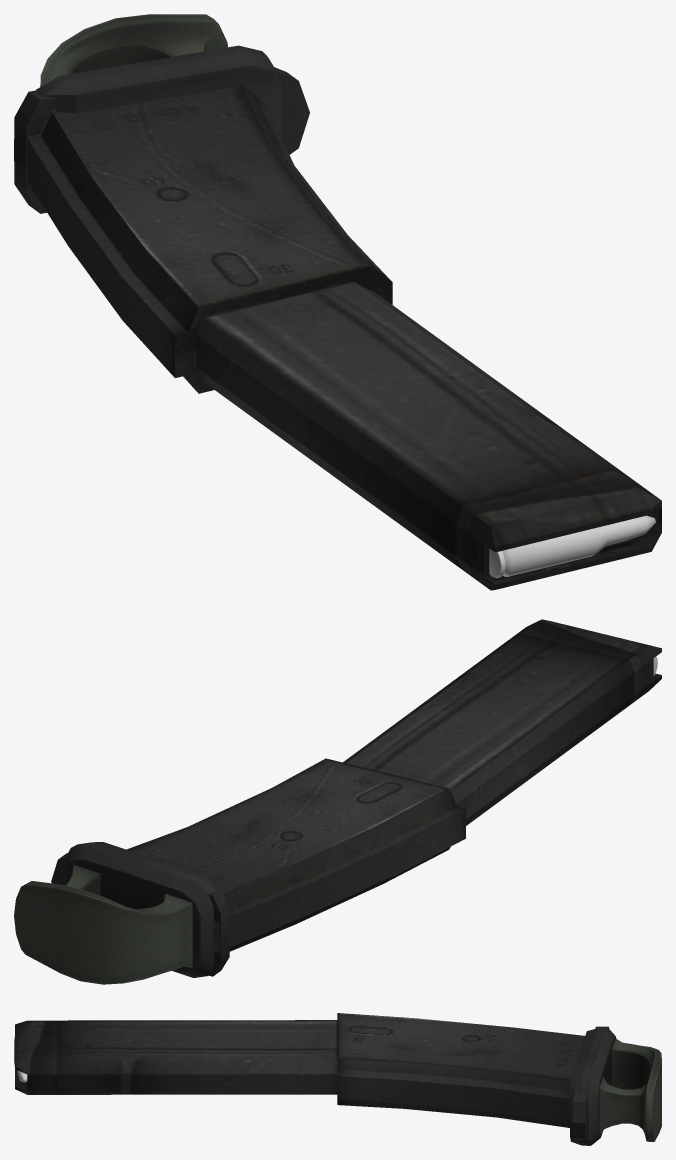
File: t6_attach_fastmag_mp7_view_LOD0.obj
The picture shows the model from 3 angles, top to bottom: view 1: azimuth 30°, elevation 25°; view 2: azimuth 150°, elevation 25°; view 3: azimuth 270°, elevation 25°; orthographic projection. The views are drawn at different scales.
Parts seen in each view (by area): view 1: mtl_t6_wpn_smg_mp7_camo1, mtl_t6_attach_fastmag, mtl_t6_wpn_smg_mp7_camo3, mtl_t6_attach_bullet; view 2: mtl_t6_wpn_smg_mp7_camo1, mtl_t6_attach_fastmag, mtl_t6_wpn_smg_mp7_camo3; view 3: mtl_t6_wpn_smg_mp7_camo1, mtl_t6_attach_fastmag, mtl_t6_wpn_smg_mp7_camo3.
Boxes of the visible parts, <box> form: mtl_t6_wpn_smg_mp7_camo1: <box>14,67,661,590</box>; mtl_t6_attach_fastmag: <box>35,14,281,136</box>; mtl_t6_wpn_smg_mp7_camo3: <box>27,135,187,377</box>; mtl_t6_attach_bullet: <box>489,515,655,578</box>; mtl_t6_wpn_smg_mp7_camo1: <box>51,619,661,976</box>; mtl_t6_attach_fastmag: <box>14,842,214,984</box>; mtl_t6_wpn_smg_mp7_camo3: <box>229,806,465,947</box>; mtl_t6_wpn_smg_mp7_camo1: <box>15,1013,609,1139</box>; mtl_t6_attach_fastmag: <box>570,1027,661,1145</box>; mtl_t6_wpn_smg_mp7_camo3: <box>337,1076,569,1122</box>.
Size of the model in its own units: 8.24 by 3.01 by 24.24.
